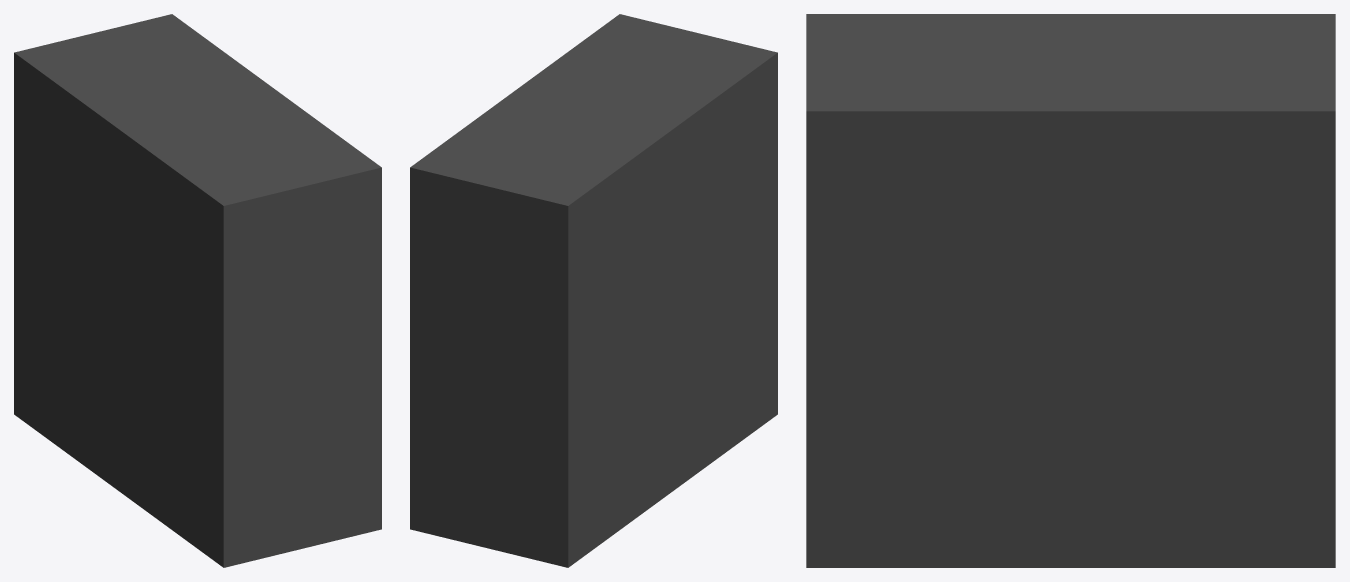
The model's file is Itr_Obj_Desktop_05.FBX.
3 renders of one model, left to right at view 1: azimuth 30°, elevation 25°; view 2: azimuth 150°, elevation 25°; view 3: azimuth 270°, elevation 25°, orthographic. The views are drawn at different scales.
Visible parts, largest first — view 1: Itr_Obj_Desktop_05; view 2: Itr_Obj_Desktop_05; view 3: Itr_Obj_Desktop_05.
Part boxes in pixels (x1,y1,x2,y2): Itr_Obj_Desktop_05: (14, 14, 381, 567); Itr_Obj_Desktop_05: (410, 14, 777, 567); Itr_Obj_Desktop_05: (806, 14, 1335, 567).
Size of the model in its own units: 10.22 by 22.36 by 23.48.
